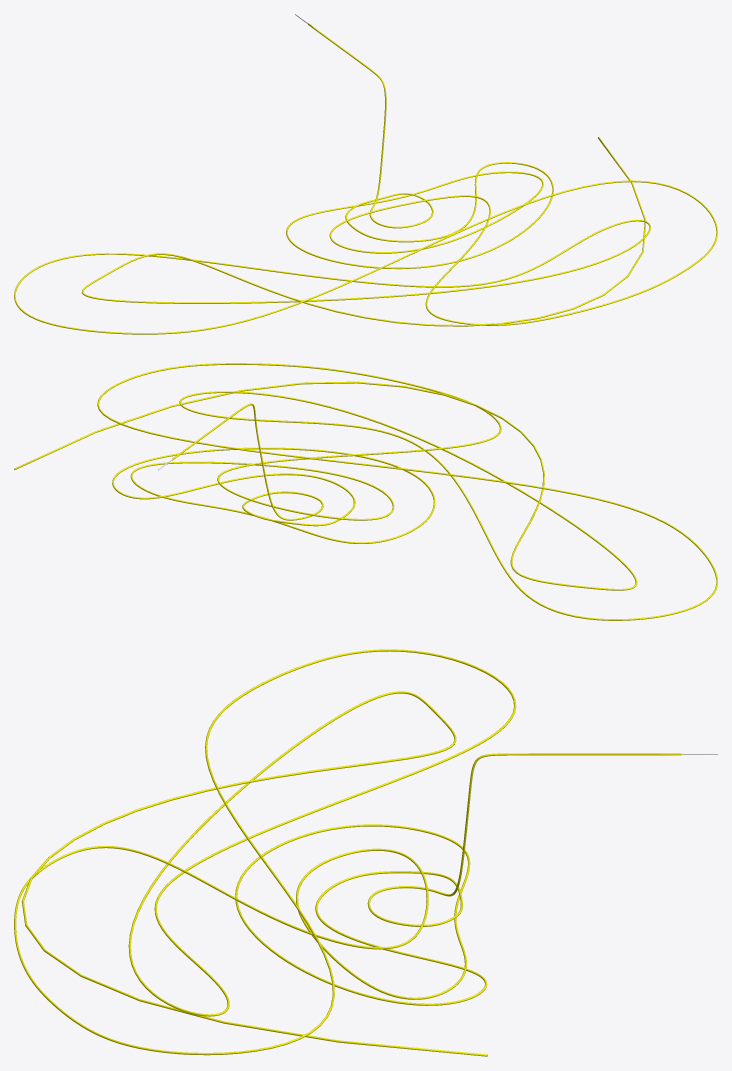
The model's file is Kabel yang sudah terpotong di cleaver.fbx.
3 views of the same model, one above another, from view 1: azimuth 30°, elevation 25°; view 2: azimuth 150°, elevation 25°; view 3: azimuth 270°, elevation 25° (orthographic). The views are drawn at different scales.
Parts seen in each view (by area): view 1: Kabel yang sudah terpotong di cleaver; view 2: Kabel yang sudah terpotong di cleaver; view 3: Kabel yang sudah terpotong di cleaver.
Boxes of the visible parts, bbox=[...] form: Kabel yang sudah terpotong di cleaver: bbox=[14, 14, 717, 334]; Kabel yang sudah terpotong di cleaver: bbox=[14, 363, 717, 620]; Kabel yang sudah terpotong di cleaver: bbox=[14, 649, 717, 1056].
Bounding box in the file's own units: 22.99 × 4.14 × 16.69.
Materials: 1 (1 with a texture image).
